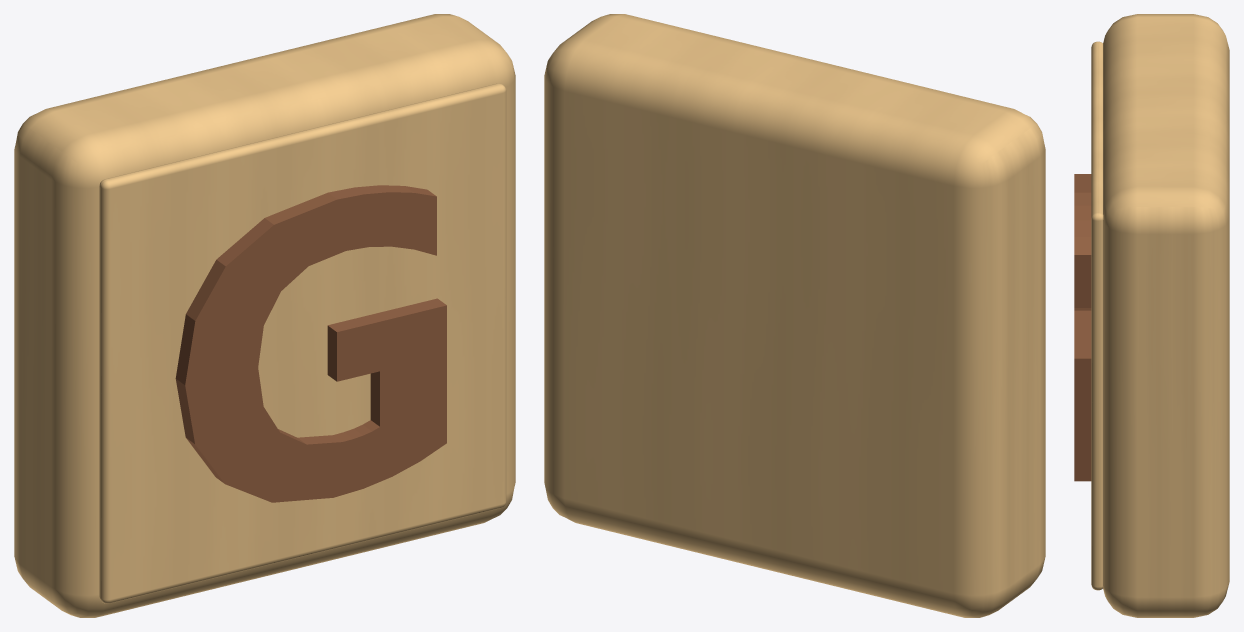
3 views of the same model, side by side, from view 1: azimuth 30°, elevation 25°; view 2: azimuth 150°, elevation 25°; view 3: azimuth 270°, elevation 25° (orthographic). The views are drawn at different scales.
Parts seen in each view (by area): view 1: Tile_G; view 2: Tile_G; view 3: Tile_G.
Part boxes in pixels (left/top/right/bottom): Tile_G: left=14, top=14, right=515, bottom=617; Tile_G: left=544, top=14, right=1045, bottom=617; Tile_G: left=1074, top=14, right=1229, bottom=617.
Bounding box in the file's own units: 0.21 × 0.21 × 0.069.
2 materials, 1 textured.
